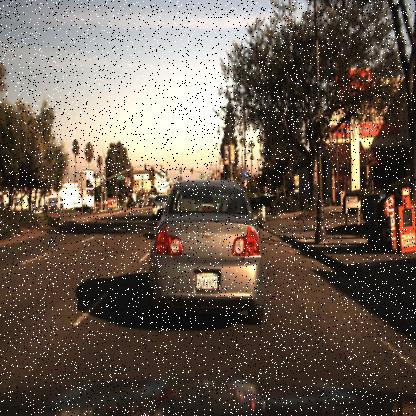car: (148, 181, 266, 328), (150, 188, 168, 224), (75, 201, 93, 215)
